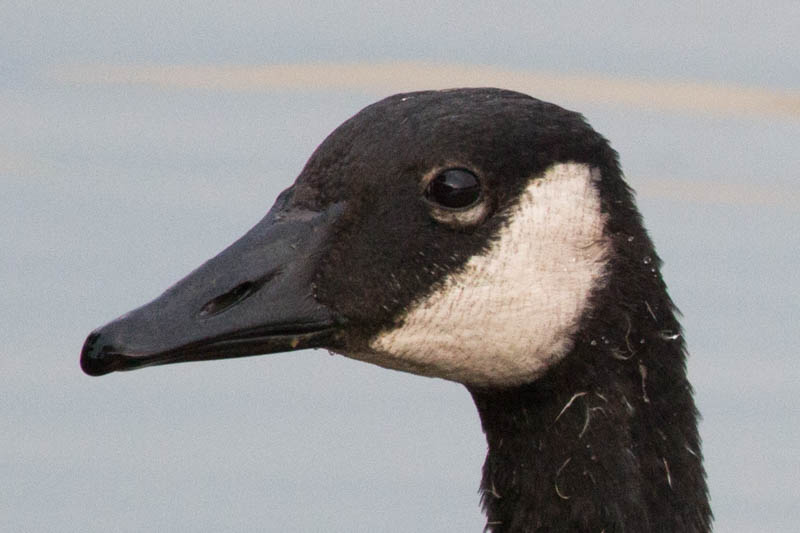goose-head: (79, 86, 685, 394)
